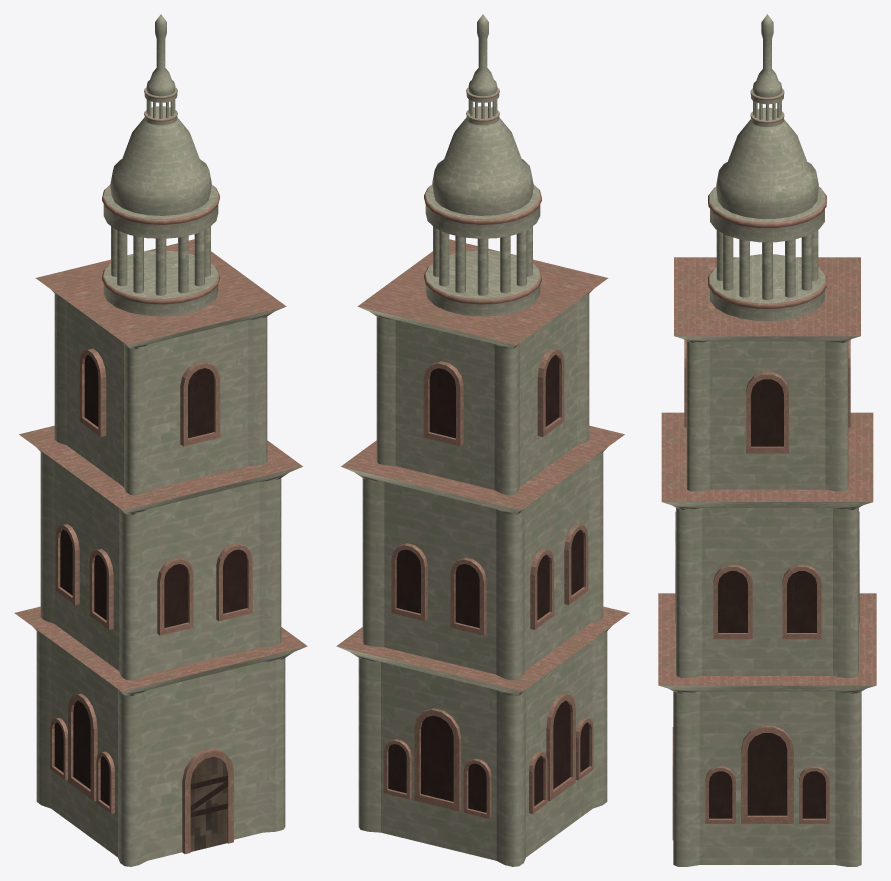
The model's file is SM_Tower_004.fbx.
The picture shows the model from 3 angles, left to right: view 1: azimuth 30°, elevation 25°; view 2: azimuth 150°, elevation 25°; view 3: azimuth 270°, elevation 25°; orthographic projection.
Parts seen in each view (by area): view 1: polySurface730; view 2: polySurface730; view 3: polySurface730.
Part boxes in pixels (x1,y1,x2,y2): polySurface730: (14, 14, 307, 866); polySurface730: (336, 14, 629, 866); polySurface730: (658, 14, 876, 866).
Size of the model in its own units: 334 by 1374 by 334.
